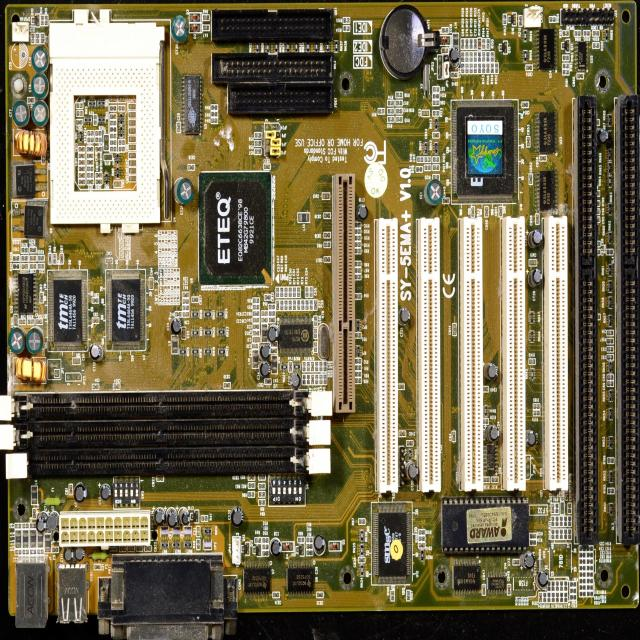Capacitor Jumper: (177, 121, 182, 134), (528, 173, 533, 186), (322, 192, 330, 200), (37, 262, 45, 270), (473, 63, 478, 75), (30, 523, 38, 530), (432, 86, 440, 93), (442, 198, 450, 205), (469, 63, 474, 74), (535, 214, 540, 225), (452, 324, 457, 334), (579, 565, 586, 572), (424, 156, 431, 163), (188, 164, 195, 171), (324, 212, 331, 219), (264, 379, 272, 385), (407, 439, 413, 447), (248, 475, 256, 481), (32, 508, 36, 520), (93, 564, 101, 570), (316, 592, 324, 598), (461, 62, 465, 74), (526, 136, 530, 148), (529, 260, 537, 266), (182, 311, 190, 317), (261, 317, 269, 323), (182, 327, 186, 339), (465, 63, 469, 74), (224, 382, 230, 389), (92, 384, 99, 390), (22, 522, 29, 528), (15, 523, 22, 529), (579, 552, 586, 558), (579, 558, 586, 564), (513, 559, 520, 565), (451, 72, 458, 78), (577, 73, 584, 79), (433, 156, 440, 162), (324, 231, 330, 238), (30, 255, 37, 261), (29, 263, 36, 269), (182, 298, 189, 304), (268, 317, 275, 323), (92, 317, 99, 323), (20, 318, 26, 325), (36, 319, 43, 325), (607, 330, 614, 336), (452, 431, 456, 441), (69, 484, 73, 494), (418, 543, 426, 548), (253, 318, 261, 323), (314, 328, 318, 338), (14, 313, 17, 326), (580, 578, 586, 584), (539, 592, 542, 604), (433, 100, 439, 106), (264, 164, 270, 170), (252, 343, 258, 349), (607, 381, 614, 386), (157, 476, 164, 481), (579, 546, 586, 551), (272, 592, 279, 597), (422, 111, 429, 116), (324, 257, 331, 262), (21, 264, 28, 269), (182, 293, 189, 298), (92, 298, 99, 303), (253, 337, 260, 342), (607, 347, 614, 352), (607, 355, 614, 360), (40, 292, 43, 303), (314, 316, 317, 327), (114, 384, 120, 389), (483, 387, 489, 392), (197, 526, 200, 536), (526, 65, 532, 70), (433, 133, 439, 138), (540, 156, 545, 162), (192, 297, 198, 302), (314, 300, 317, 310), (261, 310, 267, 315), (253, 324, 259, 329), (607, 375, 614, 379), (314, 342, 317, 351), (310, 286, 312, 296)
Connector: (99, 555, 238, 640), (572, 94, 598, 542), (615, 90, 640, 544), (5, 450, 326, 479), (0, 422, 330, 450), (3, 391, 332, 417), (457, 220, 484, 496), (543, 213, 569, 492), (417, 219, 443, 496), (503, 219, 527, 491), (376, 220, 399, 496), (333, 172, 357, 414), (211, 51, 335, 83), (209, 11, 335, 39), (227, 83, 332, 115), (58, 510, 151, 542), (16, 557, 48, 629), (58, 564, 89, 624), (560, 9, 614, 23)
IC: (198, 172, 274, 286), (451, 100, 518, 204), (442, 497, 530, 550), (371, 502, 413, 585), (46, 270, 88, 352), (106, 270, 146, 351), (277, 316, 313, 355), (181, 74, 203, 136), (12, 272, 38, 316), (243, 560, 271, 600), (286, 559, 314, 597), (535, 170, 559, 214), (452, 560, 480, 596), (535, 112, 559, 154), (535, 29, 558, 69), (483, 443, 499, 472), (487, 571, 505, 596), (574, 42, 589, 70)
Resistor Jumper: (491, 476, 499, 484), (248, 490, 255, 498), (586, 584, 594, 591), (473, 38, 478, 49), (275, 287, 280, 298), (469, 52, 474, 62), (473, 52, 478, 62), (494, 63, 499, 73), (607, 457, 614, 464), (483, 476, 490, 483), (586, 545, 593, 552), (387, 116, 394, 123), (264, 294, 271, 301), (562, 30, 569, 37), (31, 33, 35, 45), (592, 43, 600, 49), (259, 482, 265, 490), (259, 490, 265, 498), (358, 518, 366, 524), (261, 537, 269, 543), (586, 552, 594, 558), (586, 559, 594, 565), (586, 572, 594, 578), (586, 578, 594, 584), (586, 591, 594, 597), (432, 110, 440, 116), (254, 132, 262, 138), (424, 164, 432, 170), (503, 13, 507, 25), (606, 249, 614, 255), (37, 255, 45, 261), (12, 255, 20, 261), (202, 24, 210, 30), (280, 286, 284, 298), (268, 304, 276, 310), (252, 304, 260, 310), (592, 30, 600, 36), (606, 338, 614, 344), (528, 358, 536, 364), (292, 287, 297, 296), (36, 33, 40, 44), (469, 38, 473, 49), (465, 39, 469, 50), (490, 51, 494, 62), (547, 581, 551, 592), (390, 590, 394, 601), (564, 592, 568, 603), (556, 592, 560, 603), (284, 287, 288, 298), (288, 287, 292, 298), (305, 300, 309, 311), (533, 410, 540, 416), (201, 515, 208, 521), (306, 536, 313, 542), (262, 550, 269, 556), (306, 550, 313, 556), (579, 572, 586, 578), (562, 55, 569, 61), (579, 584, 586, 590), (579, 591, 586, 597), (396, 92, 403, 98), (432, 93, 439, 99), (388, 100, 394, 107), (378, 108, 385, 114), (417, 157, 424, 163), (202, 14, 209, 20), (354, 222, 361, 228), (354, 241, 361, 247), (21, 248, 28, 254), (30, 247, 37, 253), (354, 248, 361, 254), (354, 268, 361, 274), (343, 26, 350, 32), (574, 31, 581, 37), (465, 52, 469, 62), (482, 52, 486, 62), (461, 52, 465, 62), (552, 581, 556, 591), (586, 585, 594, 590), (406, 590, 410, 600), (551, 592, 555, 602), (547, 592, 551, 602), (478, 63, 482, 73), (482, 64, 486, 74), (254, 149, 262, 154), (519, 16, 523, 26), (354, 229, 362, 234), (53, 254, 57, 264), (12, 264, 20, 269), (305, 287, 309, 297), (296, 287, 300, 297), (309, 300, 313, 310), (288, 300, 292, 310), (252, 311, 260, 316), (268, 311, 276, 316), (487, 37, 490, 49), (461, 40, 465, 49), (249, 483, 255, 489), (298, 536, 304, 542), (255, 537, 261, 543), (587, 565, 593, 571), (587, 578, 593, 584), (570, 588, 576, 594), (396, 100, 402, 106), (396, 108, 402, 114), (433, 174, 439, 180), (324, 242, 330, 248), (355, 274, 361, 280), (253, 298, 259, 304), (28, 319, 34, 325), (253, 330, 259, 336), (607, 488, 614, 493), (418, 530, 425, 535), (529, 534, 536, 539), (529, 540, 536, 545), (587, 591, 594, 596), (387, 109, 394, 114), (211, 112, 218, 117), (396, 117, 403, 122), (211, 118, 218, 123), (549, 17, 556, 22), (343, 18, 350, 23), (21, 256, 28, 261), (175, 312, 182, 317), (197, 539, 200, 550), (560, 592, 563, 603), (491, 63, 494, 74), (45, 15, 48, 26), (41, 15, 44, 26), (280, 300, 283, 311), (297, 300, 300, 311), (532, 404, 540, 408), (258, 476, 266, 480), (41, 34, 44, 44), (482, 39, 485, 49), (259, 500, 265, 505), (419, 536, 425, 541), (487, 52, 490, 62), (570, 582, 576, 587), (556, 581, 559, 591), (560, 581, 563, 591), (564, 582, 567, 592), (562, 70, 568, 75), (211, 105, 217, 110), (255, 141, 261, 146), (433, 165, 439, 170), (355, 261, 361, 266), (354, 294, 360, 299), (301, 300, 304, 310), (284, 300, 287, 310), (443, 28, 448, 34), (584, 31, 590, 36), (262, 545, 269, 549), (562, 64, 569, 68), (570, 595, 576, 599), (486, 64, 489, 72), (355, 236, 361, 240), (293, 301, 296, 309), (183, 306, 189, 310), (307, 544, 312, 548), (544, 593, 546, 603)
Transistor: (11, 161, 48, 199), (11, 201, 49, 237), (30, 13, 40, 28), (561, 39, 571, 52), (499, 40, 508, 54), (508, 12, 516, 27), (242, 540, 249, 556), (253, 544, 261, 558), (191, 509, 198, 524), (296, 543, 304, 556)
